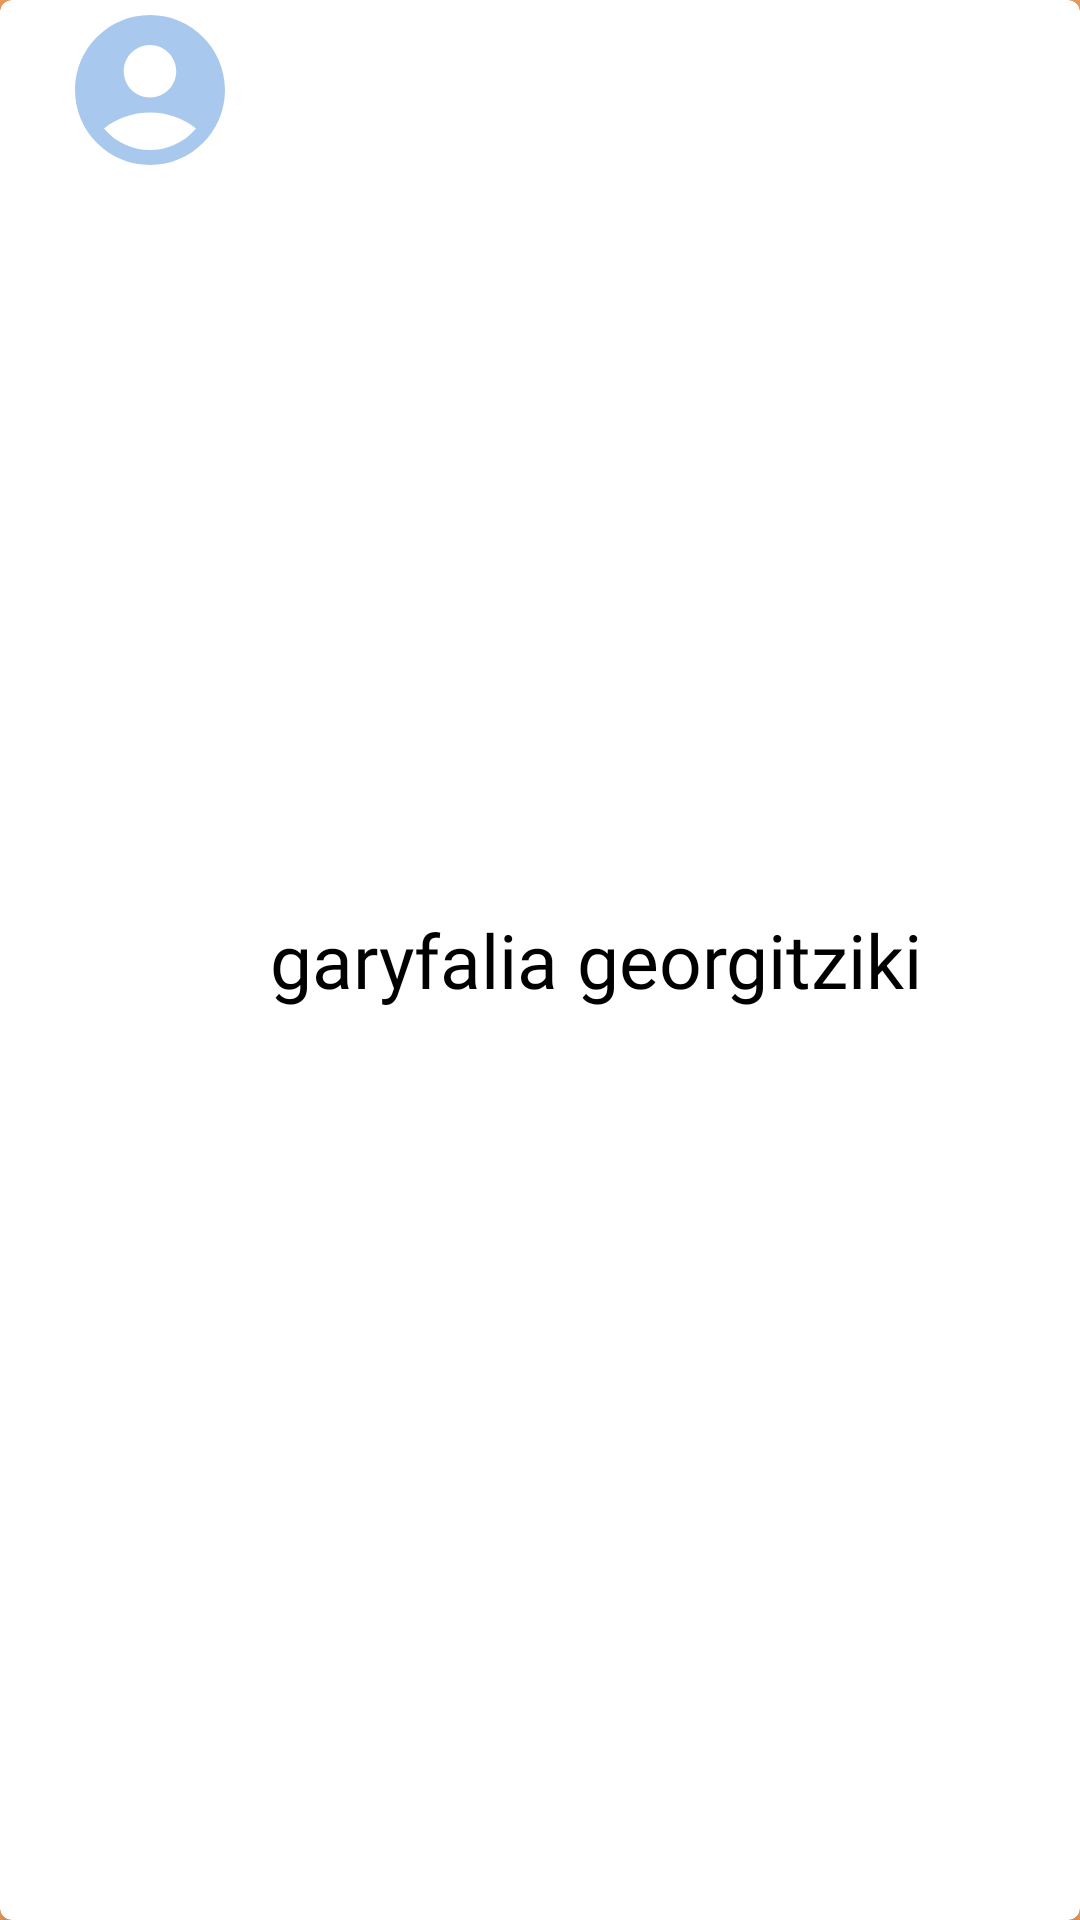

Where to tap for icons on this 1080*1920 app screen, as (x=x, y=y):
account: (x=150, y=90)
